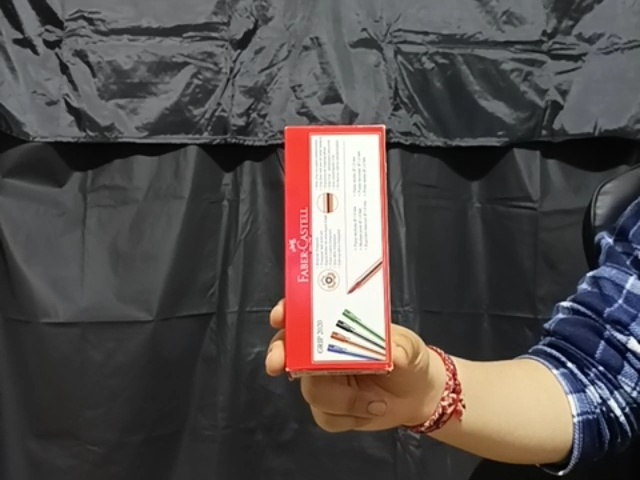xd: (282, 124, 394, 377)
